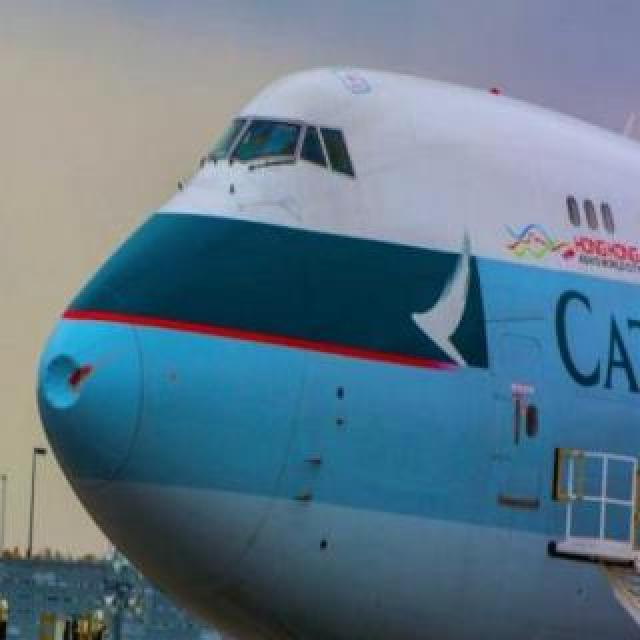dent: (41, 339, 95, 431)
